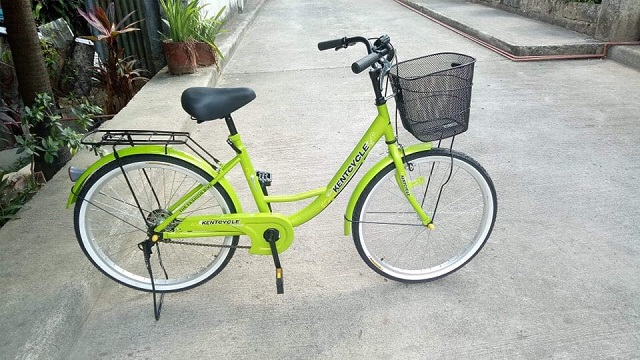bike: (69, 33, 498, 314)
plant: (160, 2, 195, 71), (196, 13, 219, 66)
